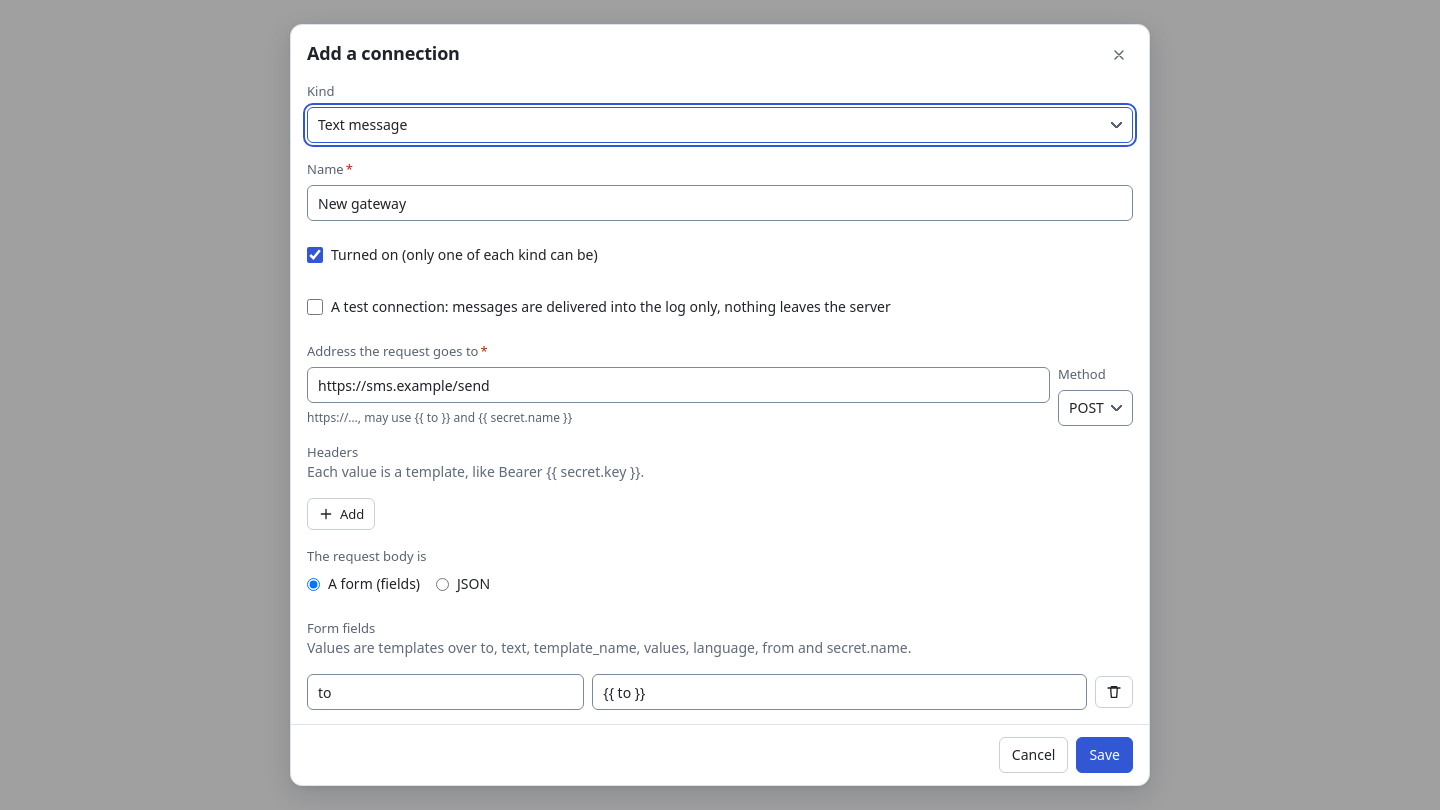
Test: saving a connection that would turn another off › sends nothing more when the person cancels, and the form stays open
Click the button "Save" at (1105, 755), box [1076,737,1133,773]
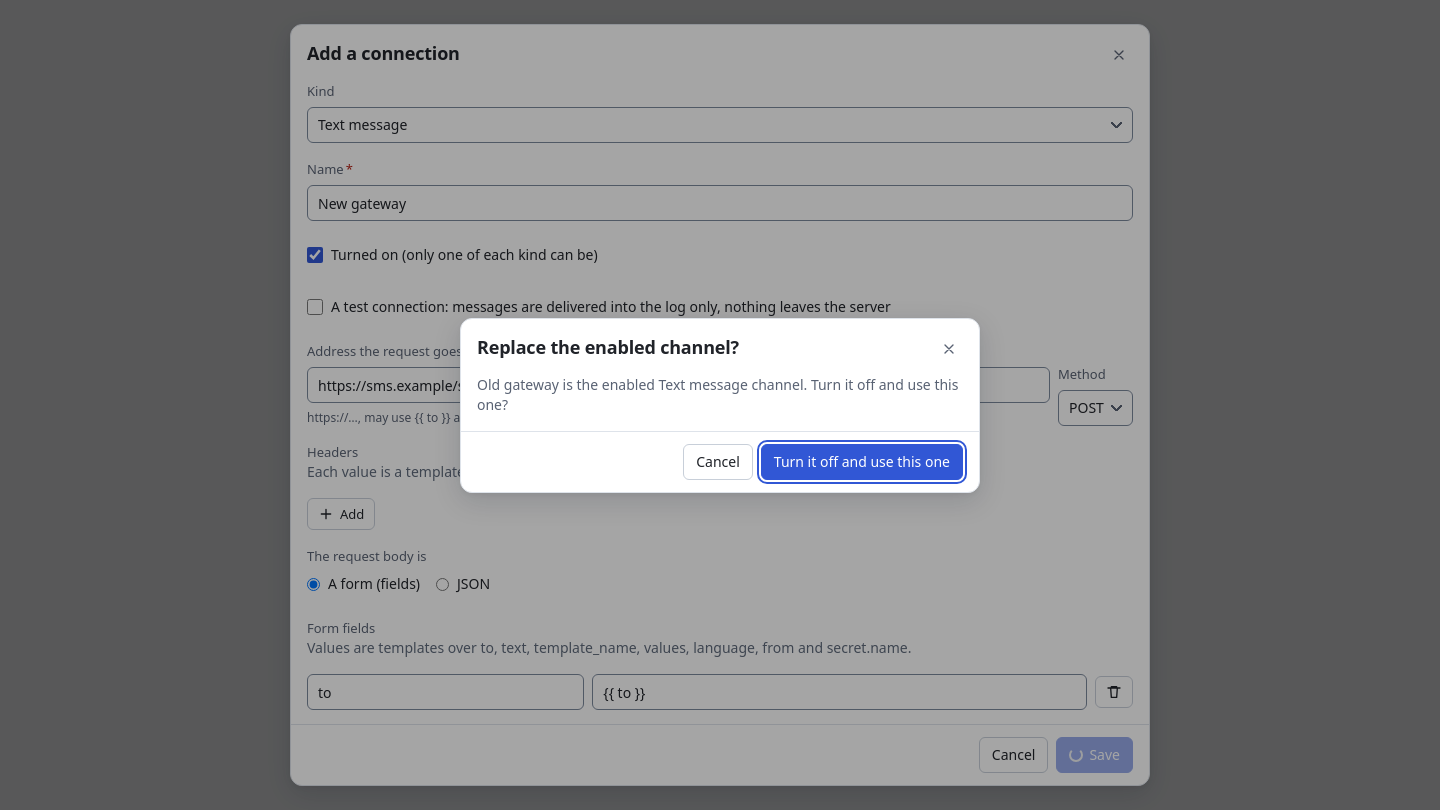
Click the button "Cancel" at (718, 462), box [683,444,753,480]
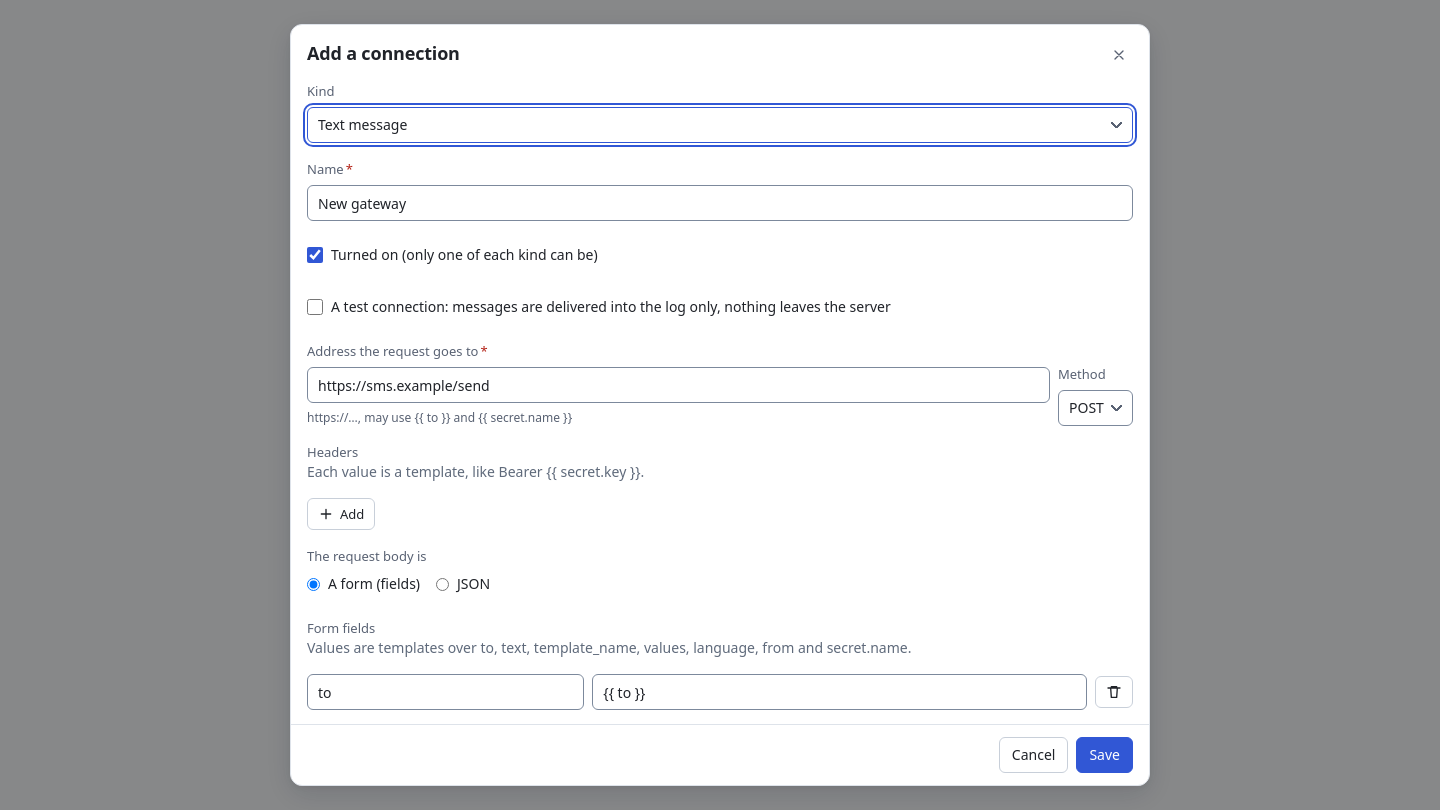
Check: the text "Add a connection" is shown, box [307,41,460,65]
Check: the text "Turn it off and use this one?" is gone
